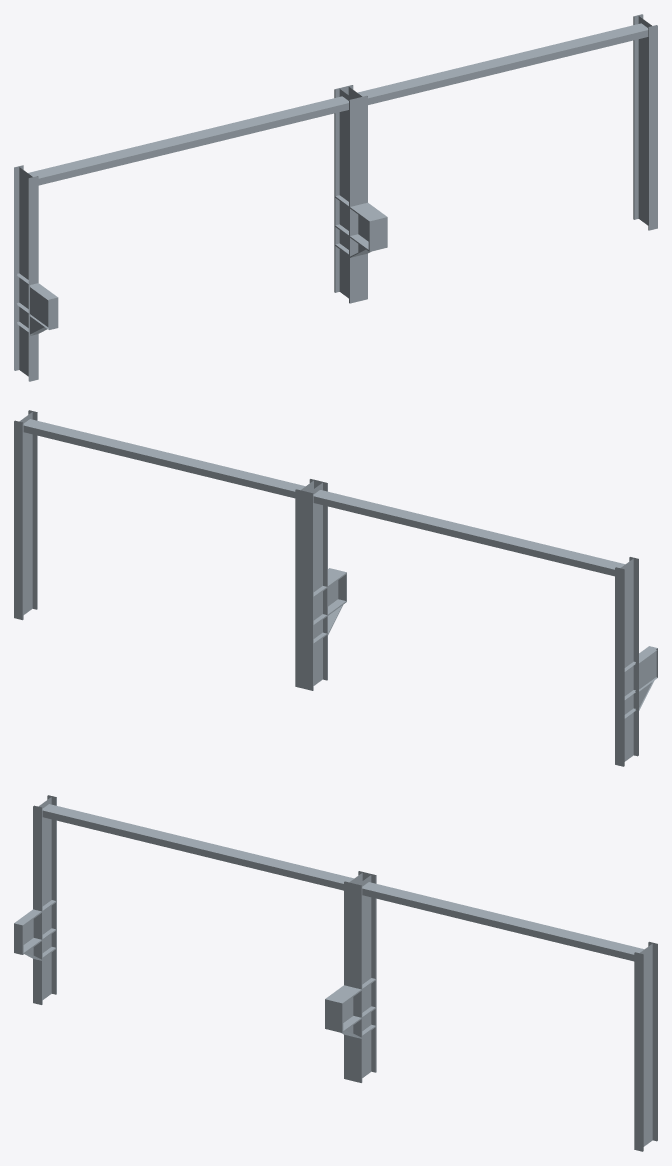
The model's file is SM06_Building_Structure_Wall_Top_Flat_02_Corner.fbx.
3 views of the same model, one above another, from view 1: azimuth 30°, elevation 25°; view 2: azimuth 150°, elevation 25°; view 3: azimuth 330°, elevation 25° (orthographic). The views are drawn at different scales.
Parts seen in each view (by area): view 1: SM06_Building_Structure_Wall_Top_Flat_02_Corner; view 2: SM06_Building_Structure_Wall_Top_Flat_02_Corner; view 3: SM06_Building_Structure_Wall_Top_Flat_02_Corner.
Boxes of the visible parts, <box> form: SM06_Building_Structure_Wall_Top_Flat_02_Corner: <box>14,14,657,381</box>; SM06_Building_Structure_Wall_Top_Flat_02_Corner: <box>14,410,657,766</box>; SM06_Building_Structure_Wall_Top_Flat_02_Corner: <box>14,795,657,1151</box>.
Size of the model in its own units: 13.83 by 4.27 by 1.34.
